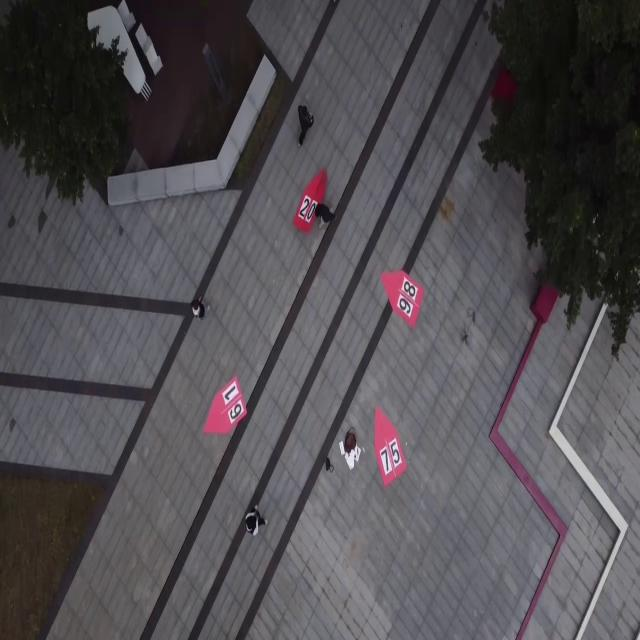-sign-: (370, 400, 412, 493), (379, 255, 428, 334), (293, 150, 330, 244), (200, 370, 250, 439)
